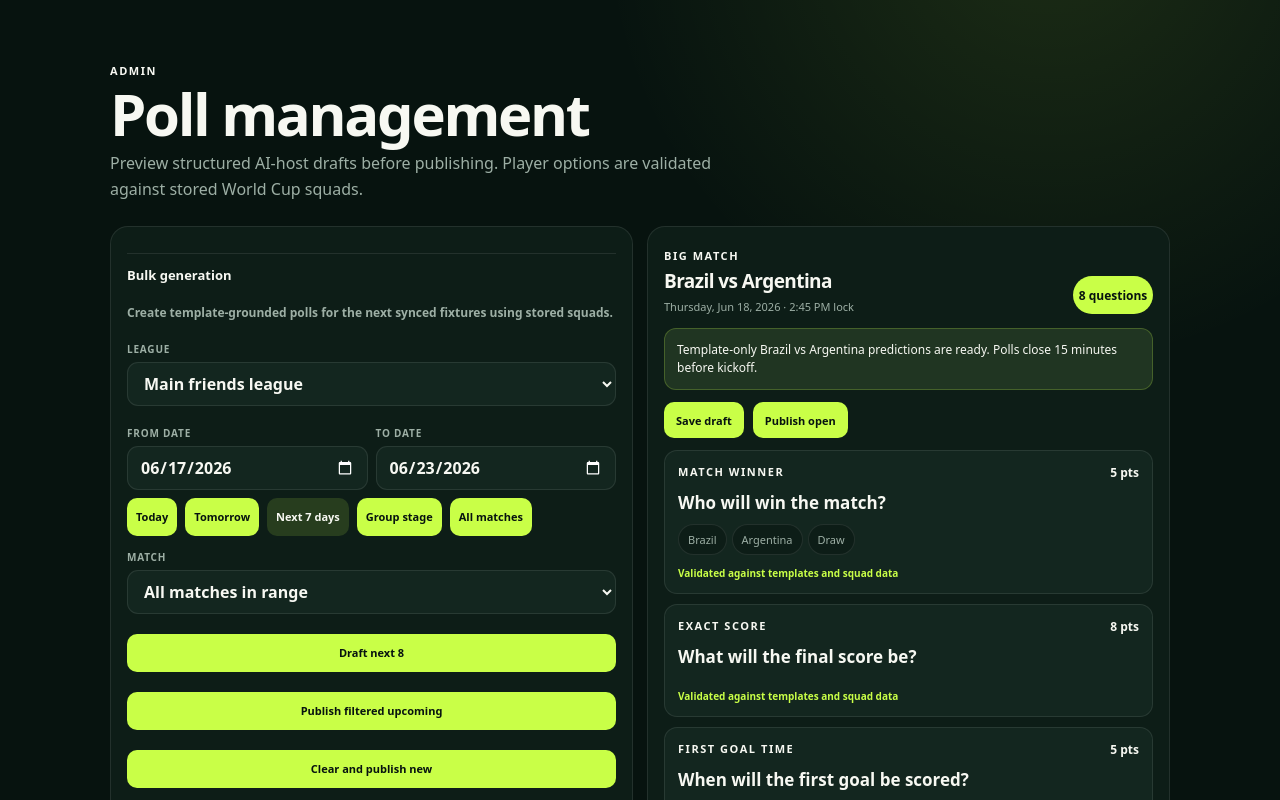
Scenario: fantasy prediction game › renders generated poll drafts from squad data
Expected: the heading "Brazil vs Argentina" is shown, [664,268,854,294]
Expected: the button "Publish open" is shown, [753,402,848,438]
Click the button "All matches" at (491, 517), box [450,498,532,536]
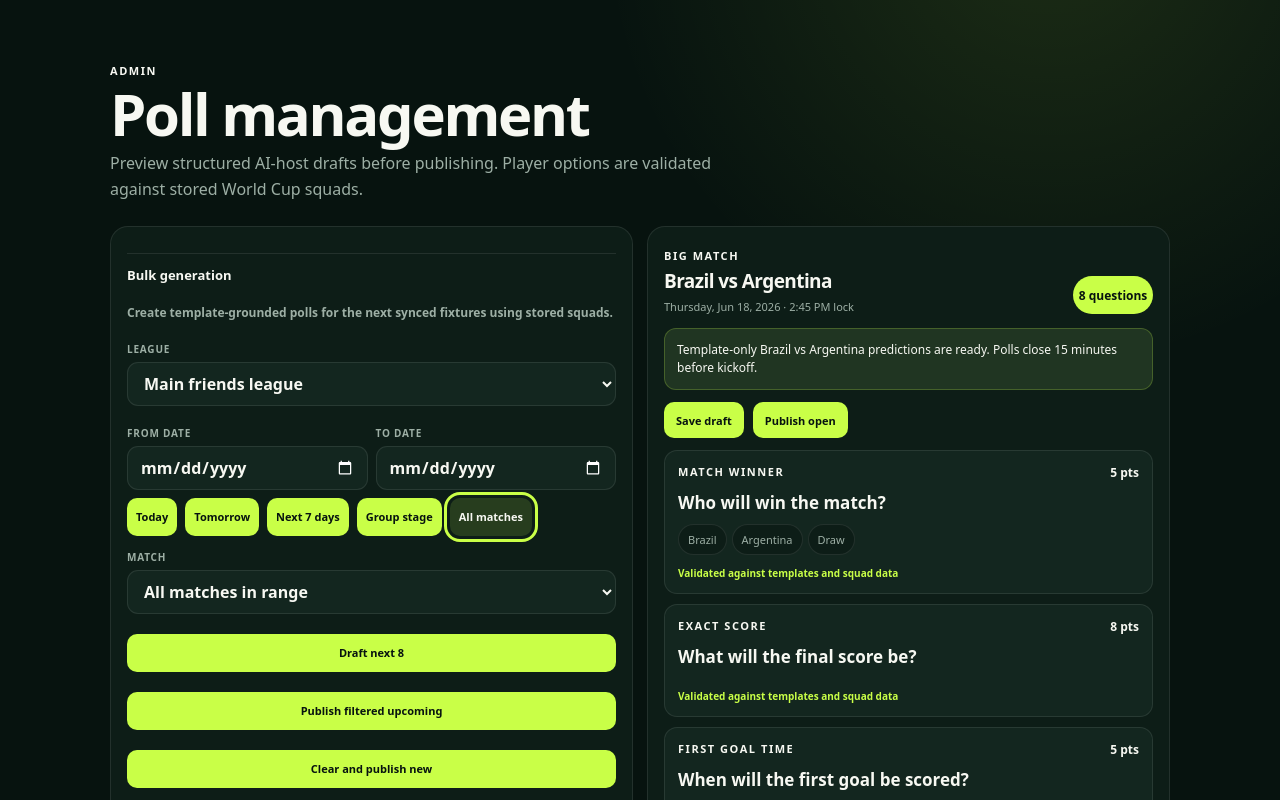
Select "England vs Spain - Tuesday, Jun 16, 2026" in the dropdown labelled "Match" at (372, 592), box [127,570,616,614]
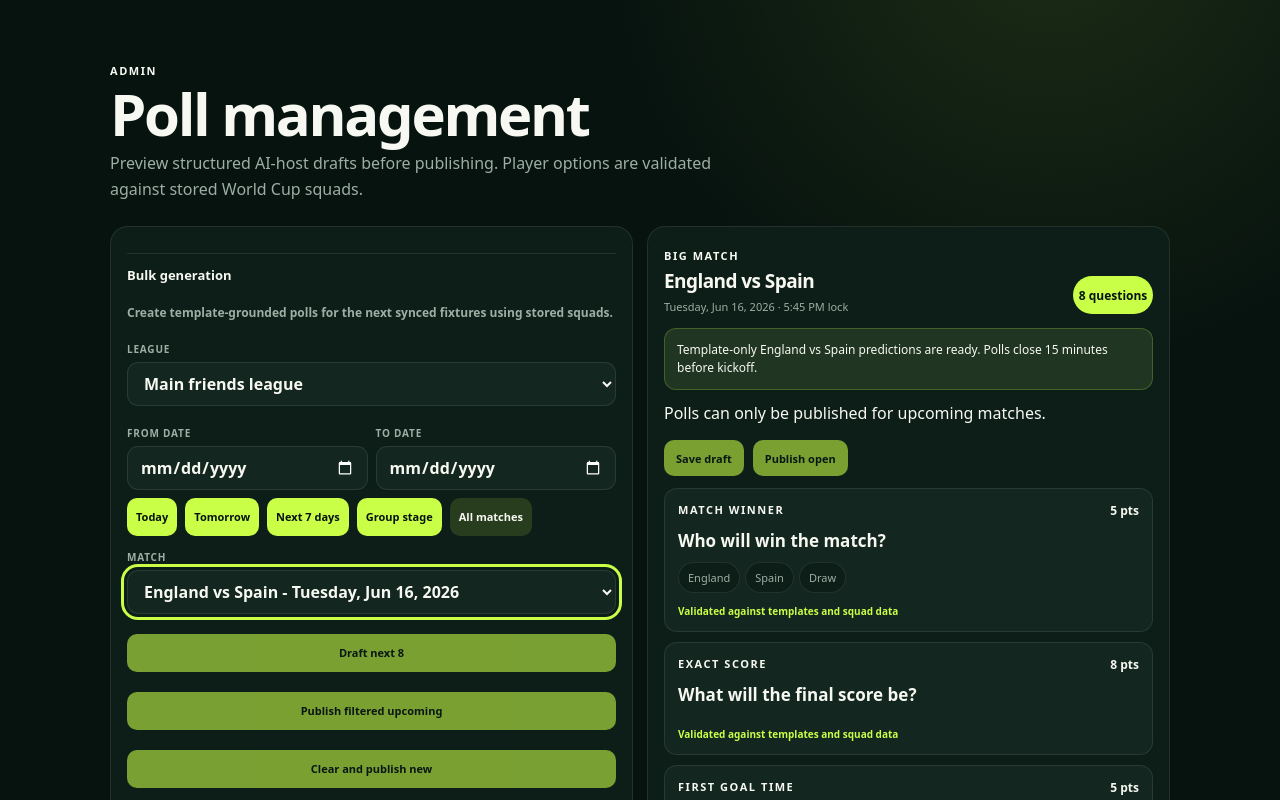
Expected: the heading "England vs Spain" is shown, [664,268,814,294]
